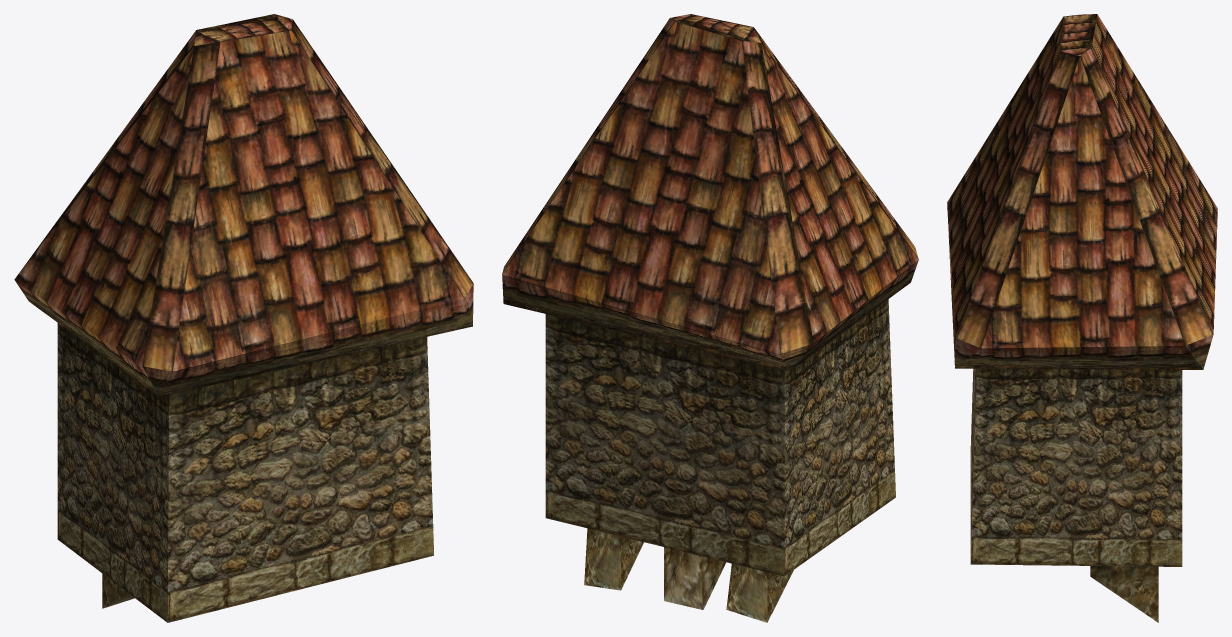
File: hrz02.glb
3 views of the same model, side by side, from view 1: azimuth 30°, elevation 25°; view 2: azimuth 150°, elevation 25°; view 3: azimuth 270°, elevation 25° (orthographic). The views are drawn at different scales.
Visible parts, largest first — view 1: hrz02-col; view 2: hrz02-col; view 3: hrz02-col.
Boxes of the visible parts, bbox=[...] form: hrz02-col: bbox=[14, 14, 473, 622]; hrz02-col: bbox=[502, 14, 918, 622]; hrz02-col: bbox=[947, 14, 1217, 622].
Size of the model in its own units: 5.34 by 8.84 by 3.96.
4 materials, 4 textured.
